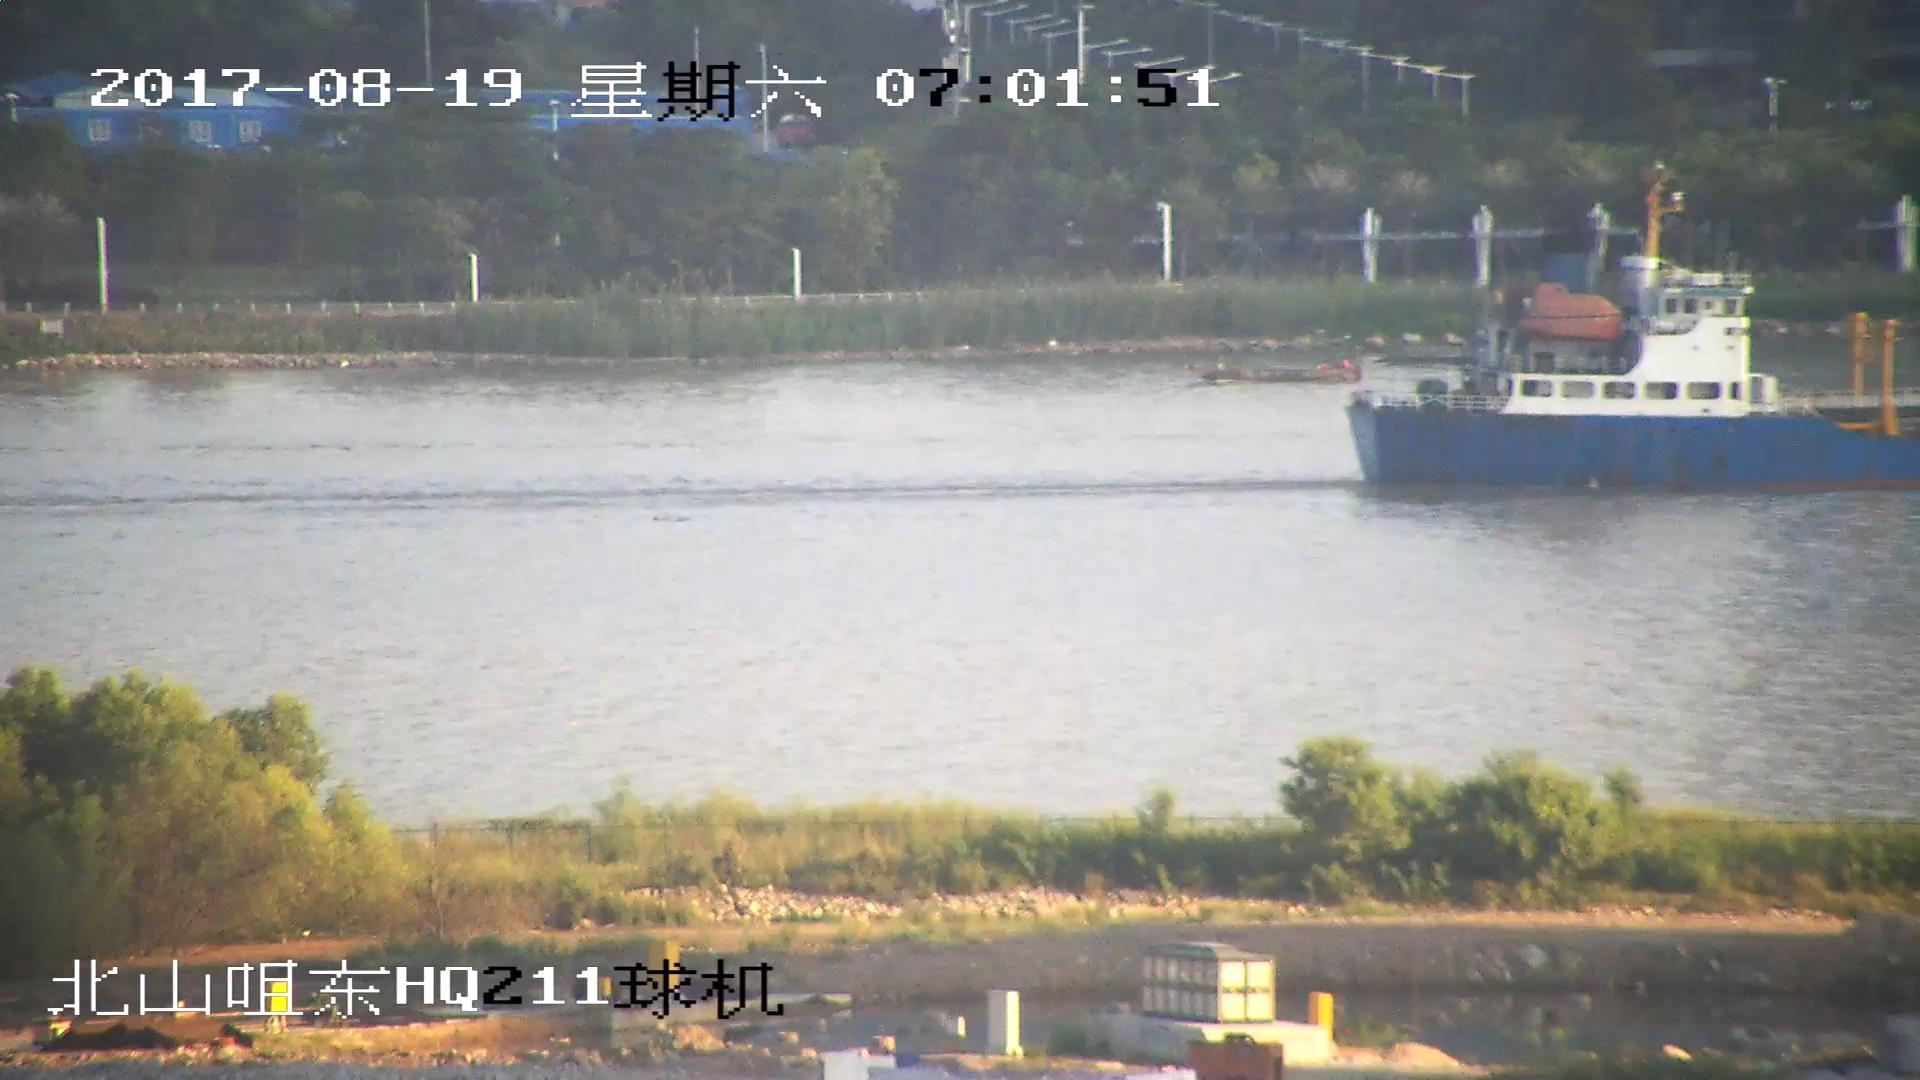Ship: (1356, 219, 1920, 487), (1211, 357, 1364, 385)
